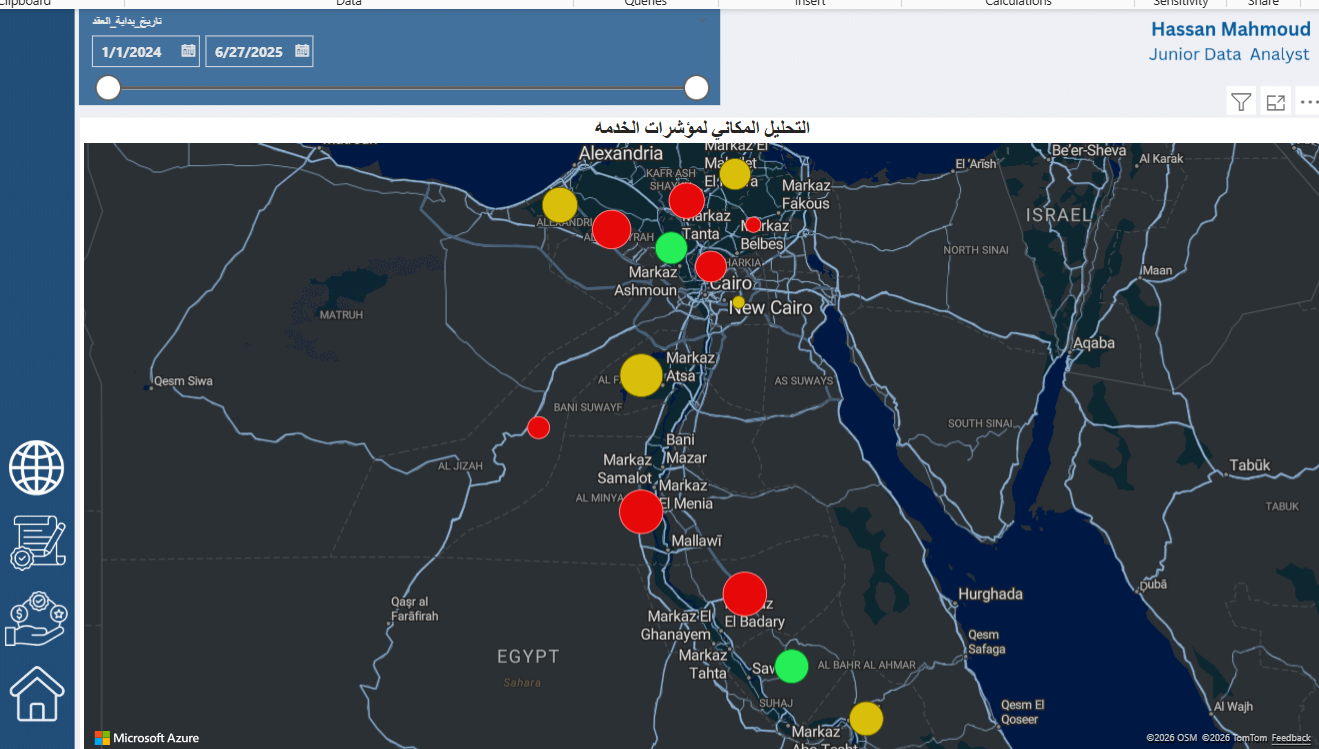

The page's visual inventory and layout, read from the dashboard file:
{"tool":"powerbi","page":{"name":"Map","canvas":[1280,720],"ordinal":4},"visuals":[{"type":"azureMap","title":"التحليل المكاني لمؤشرات الخدمه","fields":{"Category":["مواقع.المحافظة"],"Size":["_Measures.إجمالي_الايرادات_الشهرية"]},"box":[76,104.3,1204,615.5],"z":0},{"type":"actionButton","box":[0,633.4,71.2,61.5],"z":1000},{"type":"actionButton","box":[0,561,71.2,61.5],"z":2000},{"type":"actionButton","box":[0,480.2,71.2,62.7],"z":3000},{"type":"slicer","fields":{"Values":["عقود.تاريخ_بداية_العقد"]},"box":[71.2,0,618.9,92.9],"z":4000}]}

Visuals, with their boxes on the page's 1280x720 design canvas (x1, y1, x2, y2). These are canvas units, not pixel positions in the 1319x749 screenshot, which may show the page scaled, cropped or inside an application window:
"التحليل المكاني لمؤشرات الخدمه" azureMap: pyautogui.locateOnScreen(76, 104, 1280, 720)
actionButton: pyautogui.locateOnScreen(0, 633, 71, 695)
actionButton: pyautogui.locateOnScreen(0, 561, 71, 622)
actionButton: pyautogui.locateOnScreen(0, 480, 71, 543)
slicer - عقود.تاريخ_بداية_العقد: pyautogui.locateOnScreen(71, 0, 690, 93)
